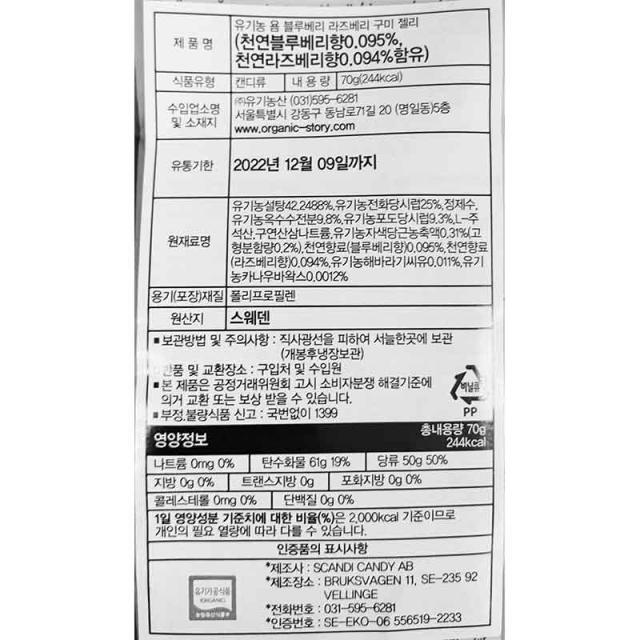Nutrition Label: (145, 418, 509, 543)
